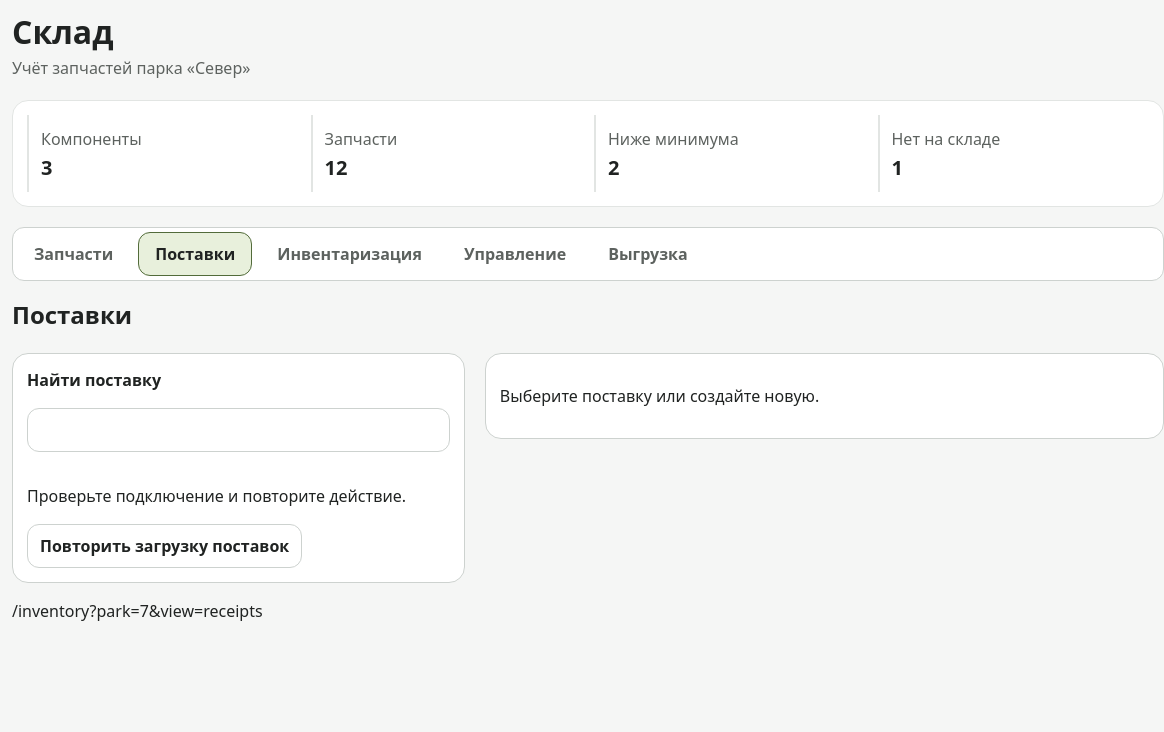
inventory URL tabs › selects the URL workflow, preserves park and mounts only the active panel
This screenshot has width=1164, height=732.
Check: the panel shows "Поставки", box [12, 298, 132, 331]
What coordinates should you click on to do the following:
click the tab "Инвентаризация"
I would click on:
 (350, 254)
Its box is [260, 232, 439, 276].
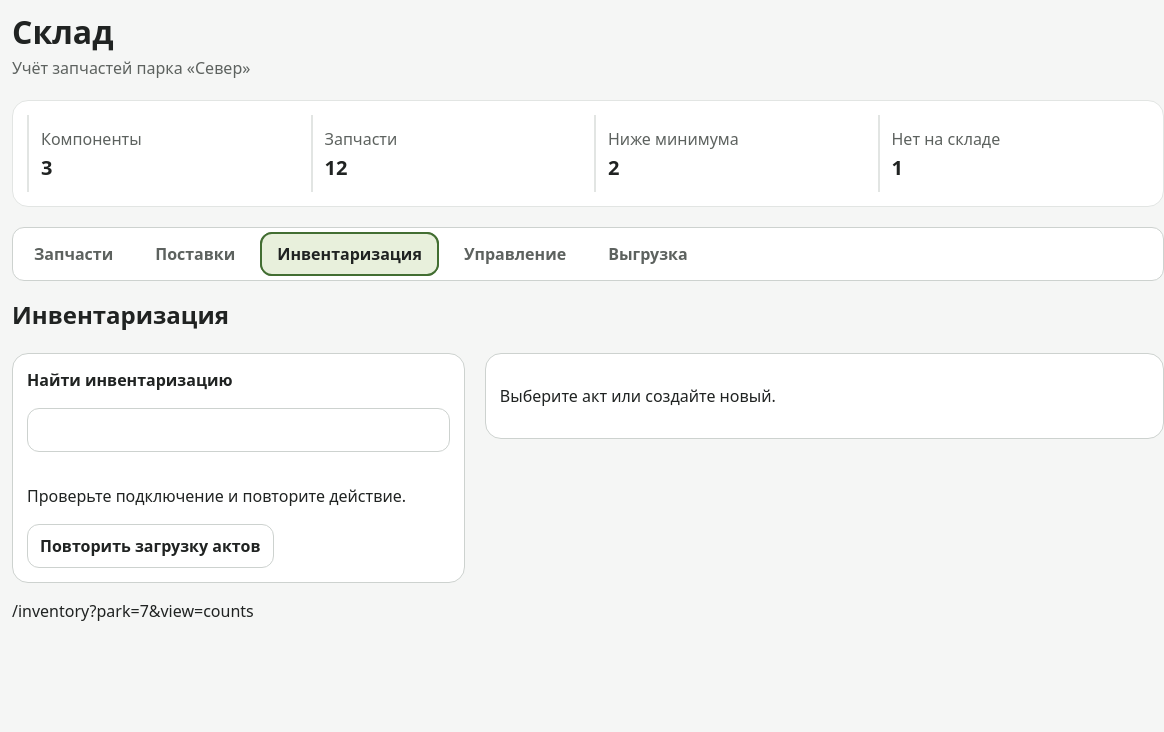
Check: the text named "Адрес" reads "/inventory?park=7&view=counts", box [12, 600, 254, 622]
Check: the panel shows "Инвентаризация", box [12, 298, 229, 331]
